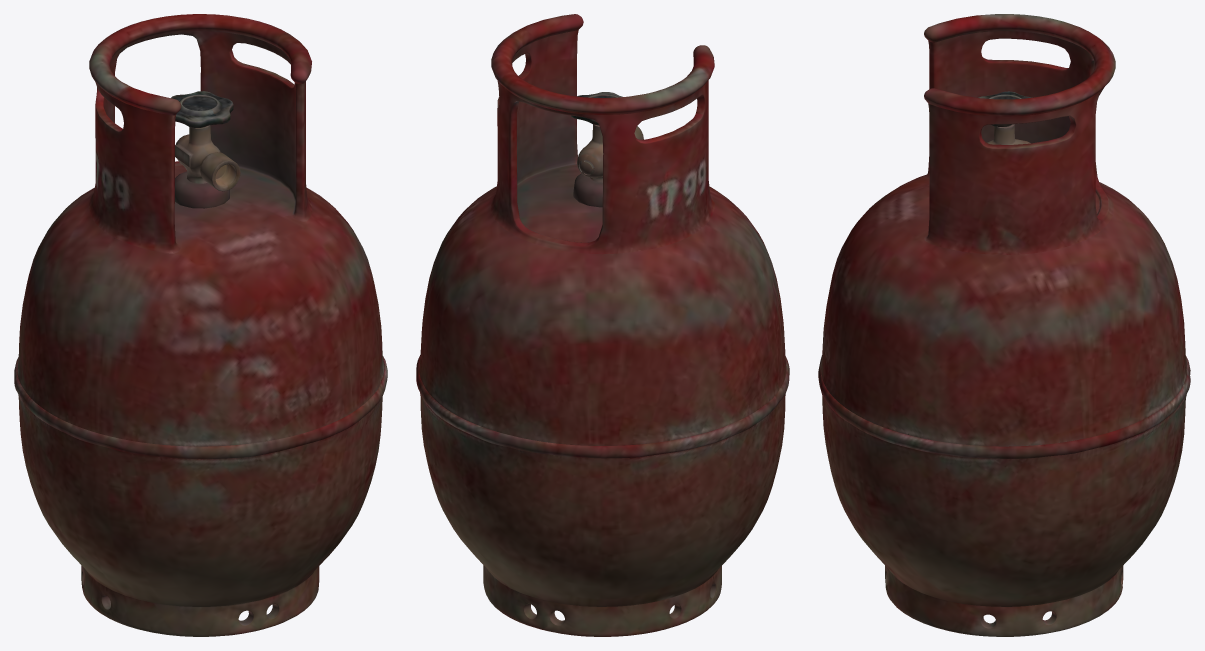
Rendered from tank.glb.
The picture shows the model from 3 angles, left to right: view 1: azimuth 30°, elevation 25°; view 2: azimuth 150°, elevation 25°; view 3: azimuth 270°, elevation 25°; orthographic projection.
Visible parts, largest first — view 1: small_lpg_tank; view 2: small_lpg_tank; view 3: small_lpg_tank.
Part boxes in pixels (x1,y1,x2,y2): small_lpg_tank: (14,14,387,636); small_lpg_tank: (416,14,789,636); small_lpg_tank: (818,14,1190,636).
Bounding box in the file's own units: 0.41 × 0.642 × 0.4092.
Materials: 1 (1 with a texture image).
